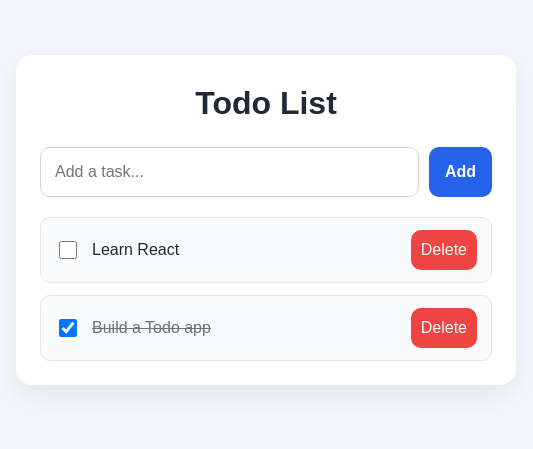
Scenario: Todo App › adds a new todo item when Add button is clicked
Type "Write tests" into the field named "Todo input" at {"x": 229, "y": 172}, box [40,147,419,197]
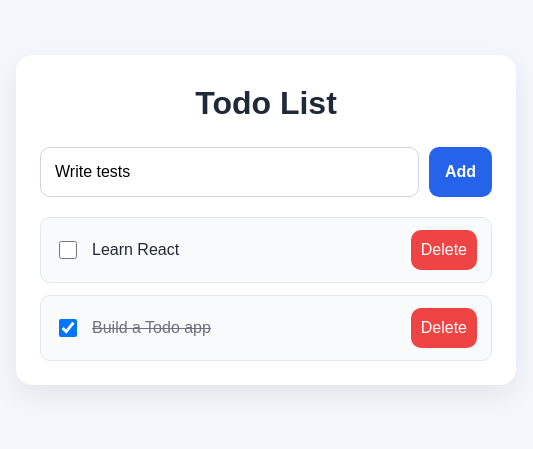
Click the button "Add" at {"x": 460, "y": 172}, box [429,147,492,197]
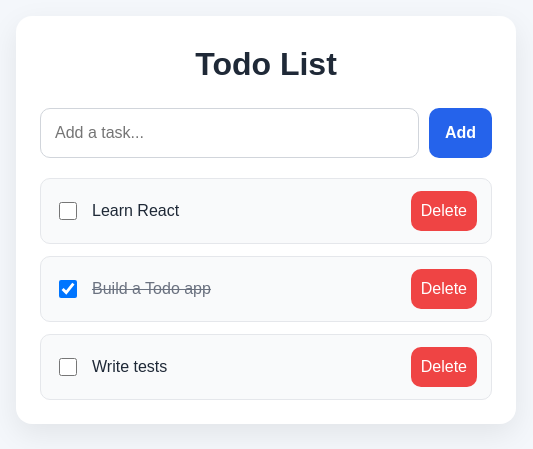
Result: the text "Write tests" is shown at [92,355,167,379]
Result: the field named "Todo input" is empty at [40,108,419,158]
